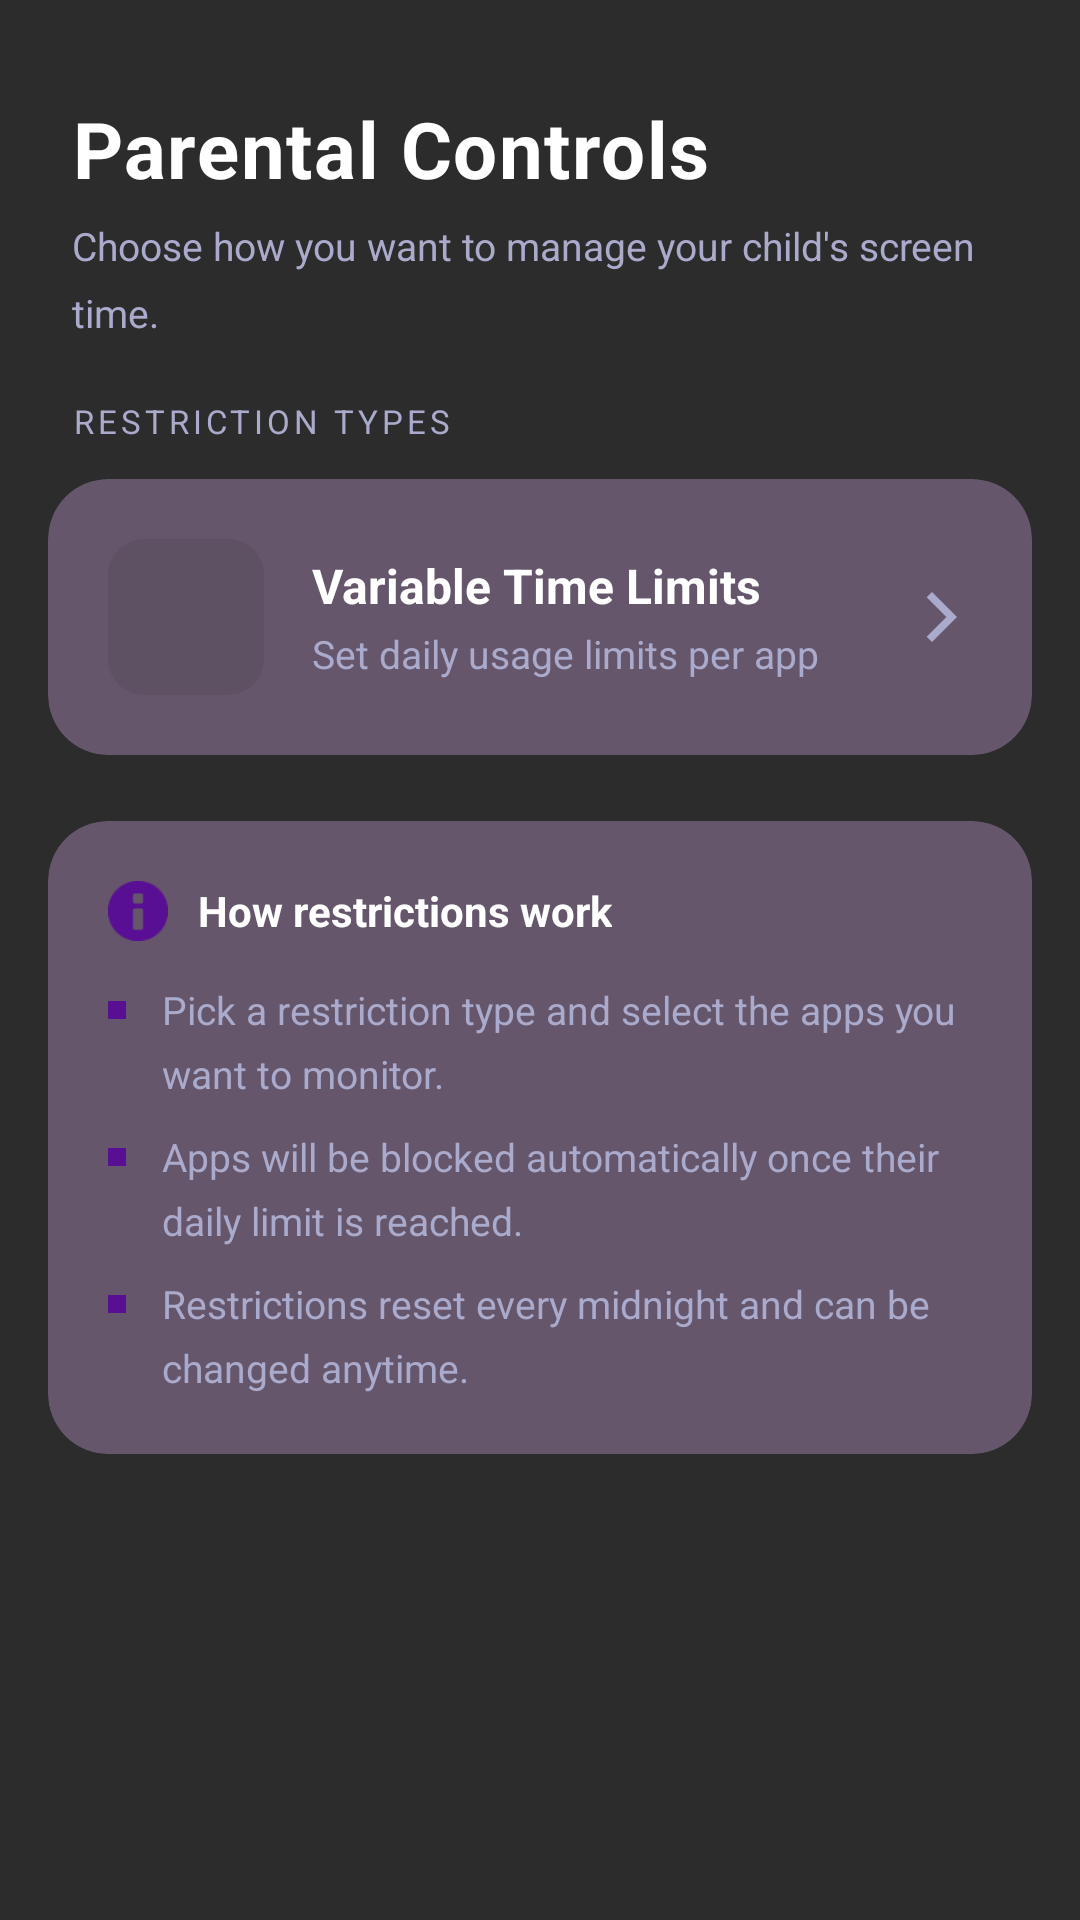

Point at icon controls on the screen. Image size 1080 × 1920, points as (x,y).
arrow forward: (942,617)
info: (138,911)
